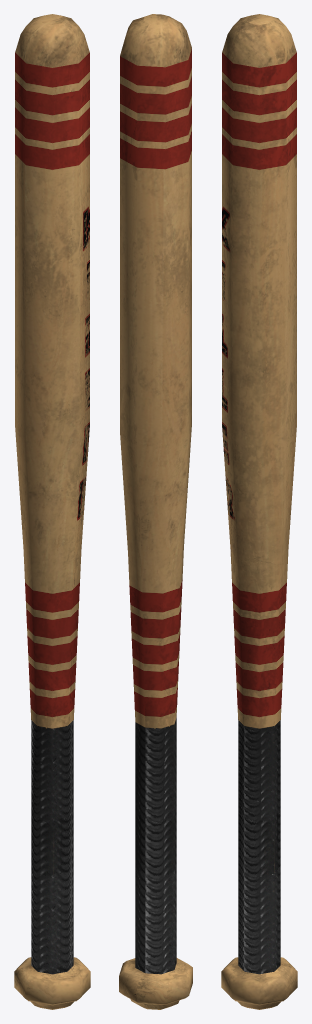
Rendered from BaseballBat_Killer_Wood(Grime).fbx.
The picture shows the model from 3 angles, left to right: view 1: azimuth 90°, elevation 25°; view 2: azimuth 150°, elevation 25°; view 3: azimuth 270°, elevation 25°; orthographic projection.
Visible parts, largest first — view 1: BaseballBat_Killer_Wood(Grime); view 2: BaseballBat_Killer_Wood(Grime); view 3: BaseballBat_Killer_Wood(Grime).
Boxes of the visible parts, x1,y1,x2,y2 form: BaseballBat_Killer_Wood(Grime): [14, 14, 90, 1009]; BaseballBat_Killer_Wood(Grime): [119, 14, 192, 1009]; BaseballBat_Killer_Wood(Grime): [221, 14, 297, 1009].
Size of the model in its own units: 5.92 by 84.03 by 5.92.
